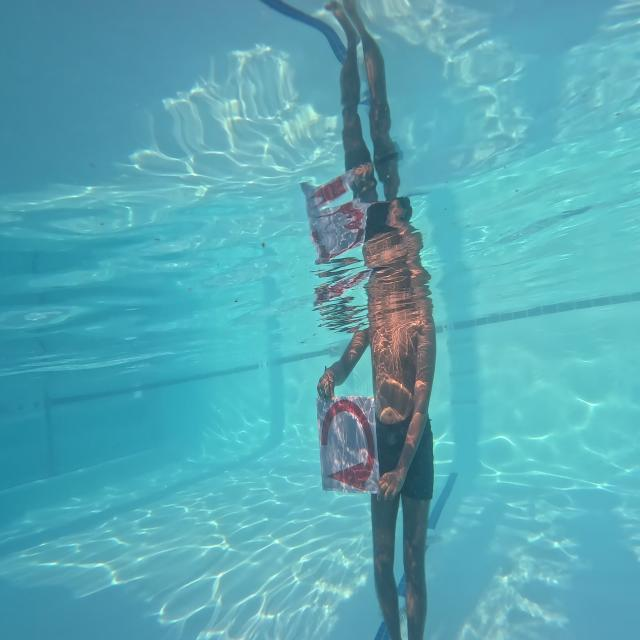red_side: (315, 393, 381, 498)
